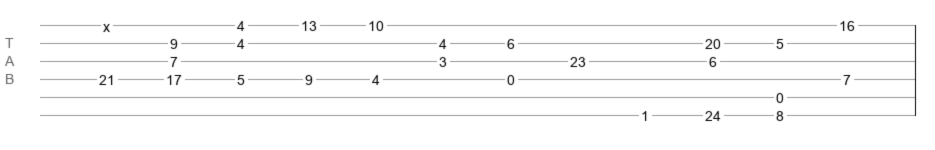0: (507, 72, 515, 82), (776, 90, 784, 100)
1: (641, 108, 649, 118)
10: (368, 18, 384, 28)
13: (301, 18, 317, 28)
16: (839, 18, 855, 28)
17: (166, 72, 182, 82)
20: (705, 36, 721, 46)
21: (99, 72, 115, 82)
23: (570, 54, 586, 64)
24: (705, 108, 721, 118)
3: (439, 54, 447, 64)
4: (237, 18, 245, 28), (237, 36, 245, 46), (372, 72, 380, 82), (439, 36, 447, 46)
5: (237, 72, 245, 82), (776, 36, 784, 46)
6: (507, 36, 515, 46), (709, 54, 717, 64)
7: (170, 54, 178, 64), (843, 72, 851, 82)
8: (776, 108, 784, 118)
9: (170, 36, 178, 46), (305, 72, 313, 82)
x: (103, 19, 110, 27)
